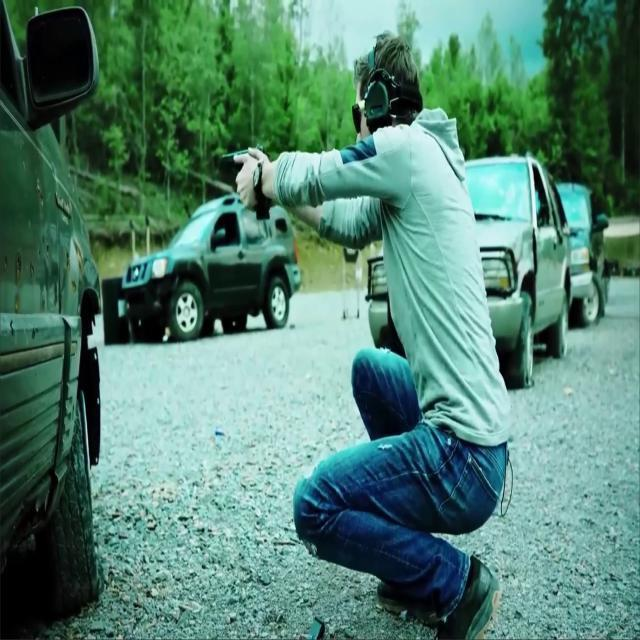gun: (222, 146, 270, 222)
